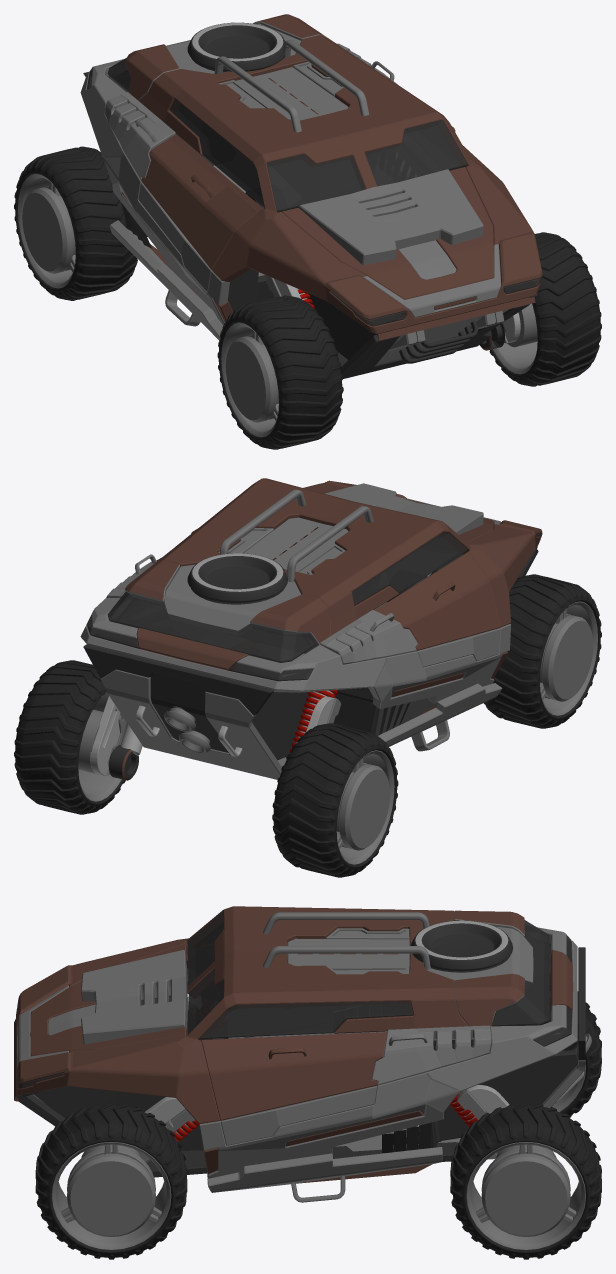
File: ArmyVehicle.fbx
3 views of the same model, one above another, from view 1: azimuth 30°, elevation 25°; view 2: azimuth 150°, elevation 25°; view 3: azimuth 270°, elevation 25° (orthographic).
Visible parts, largest first — view 1: Cylinder.107; view 2: Cylinder.107; view 3: Cylinder.107.
Part boxes in pixels (x1,y1,x2,y2): Cylinder.107: (14,14,601,449); Cylinder.107: (14,478,601,877); Cylinder.107: (14,906,601,1259).
Bounding box in the file's own units: 733 × 534 × 1118.
